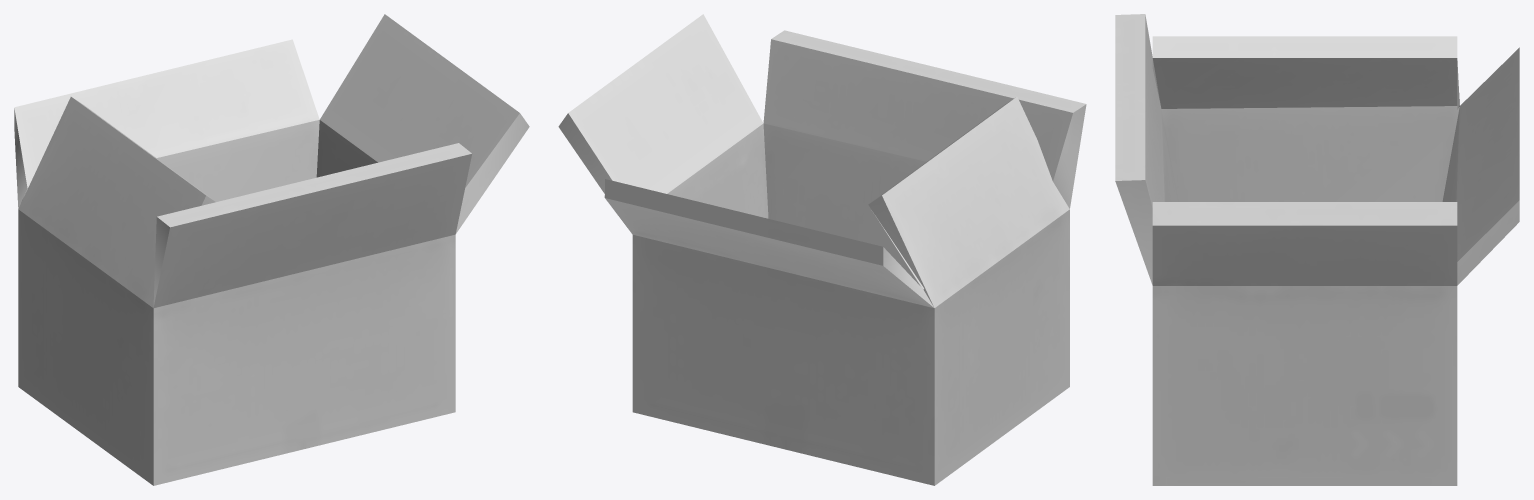
Rendered from Pfb_PaperBox__4.fbx.
3 views of the same model, side by side, from view 1: azimuth 30°, elevation 25°; view 2: azimuth 150°, elevation 25°; view 3: azimuth 270°, elevation 25° (orthographic). The views are drawn at different scales.
Visible parts, largest first — view 1: Mat_PaperBox_01_02 3; view 2: Mat_PaperBox_01_02 3; view 3: Mat_PaperBox_01_02 3.
Boxes of the visible parts, <box> form: Mat_PaperBox_01_02 3: <box>14,14,529,485</box>; Mat_PaperBox_01_02 3: <box>558,14,1086,485</box>; Mat_PaperBox_01_02 3: <box>1115,14,1519,485</box>.
Bounding box in the file's own units: 1.23 × 0.8842 × 1.02.
1 material, 1 textured.
